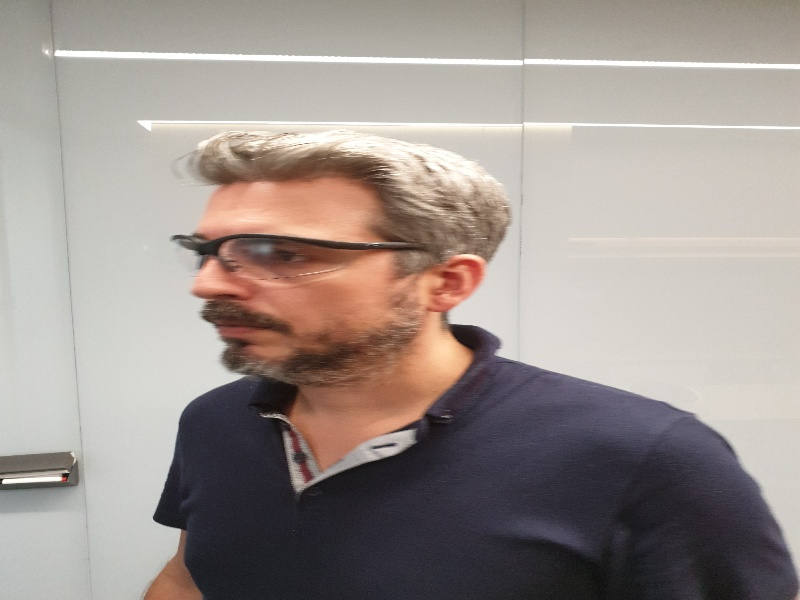Gozluk: (169, 232, 429, 286)
